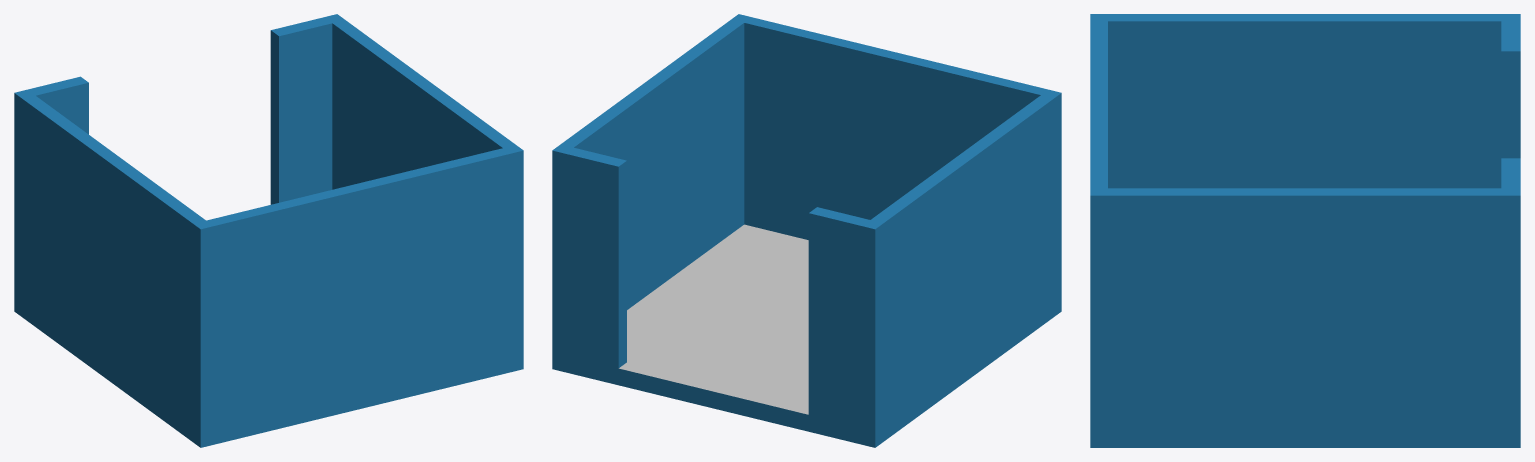
File: Office.fbx
3 views of the same model, side by side, from view 1: azimuth 30°, elevation 25°; view 2: azimuth 150°, elevation 25°; view 3: azimuth 270°, elevation 25° (orthographic). The views are drawn at different scales.
Parts seen in each view (by area): view 1: Office; view 2: Office; view 3: Office.
Boxes of the visible parts, x1,y1,x2,y2 form: Office: (14,14,523,447); Office: (552,14,1061,447); Office: (1090,14,1520,447).
Size of the model in its own units: 140 by 90.32 by 140.
